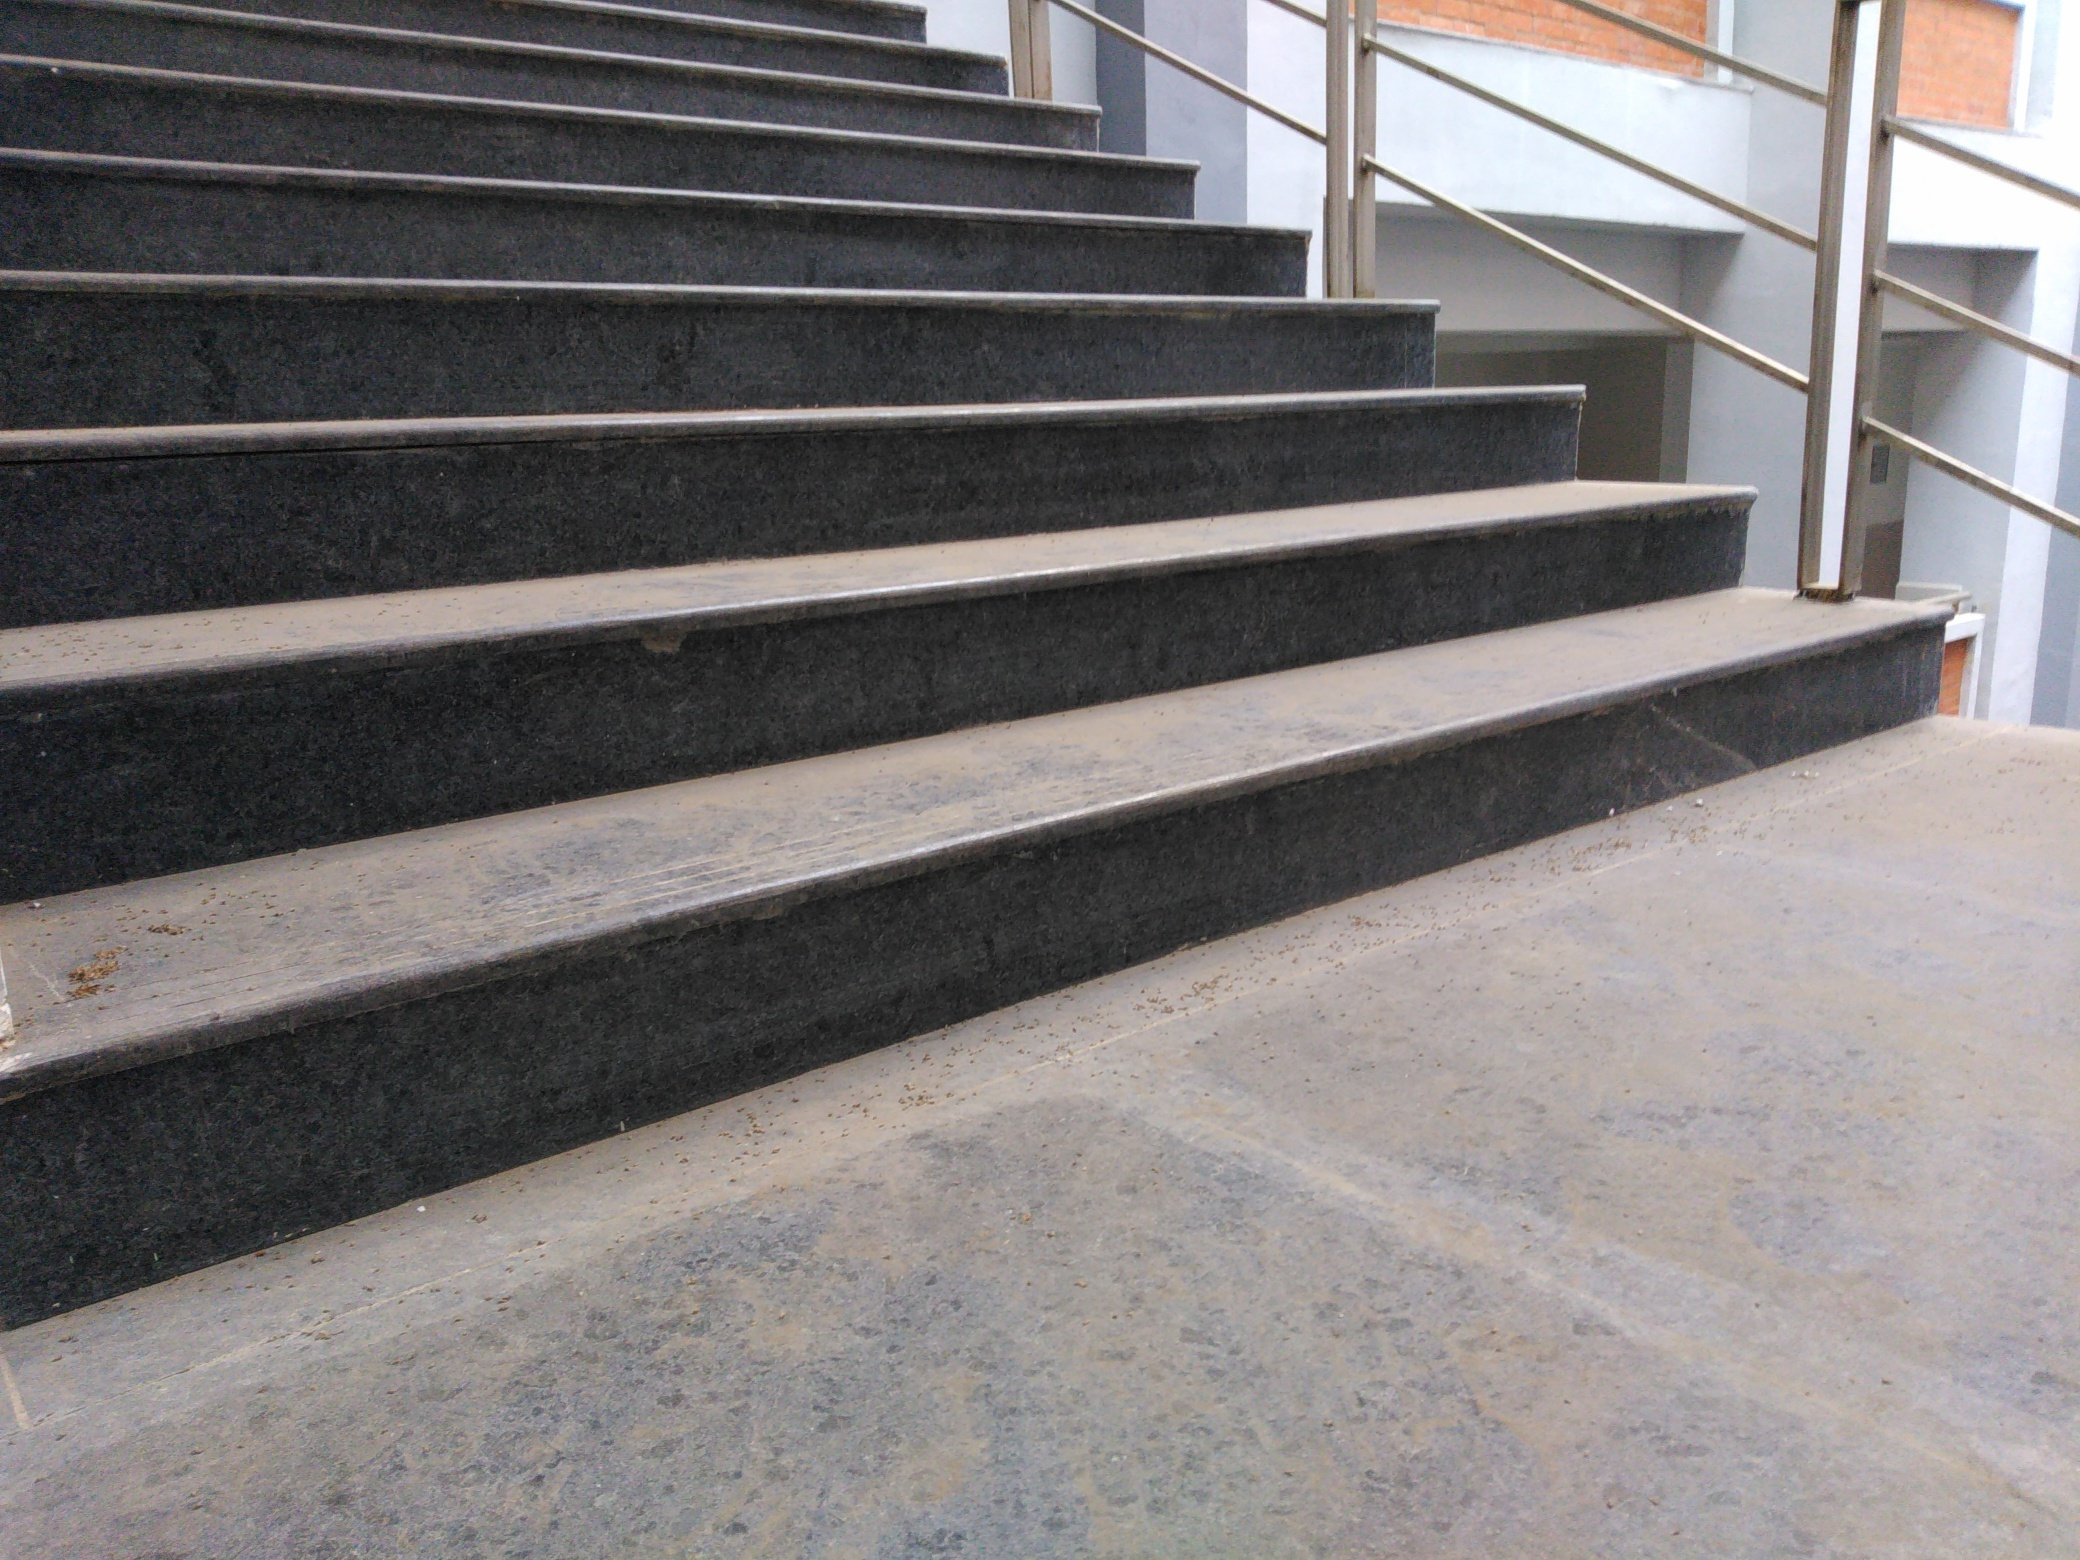stairs_up: (15, 26, 1942, 865)
